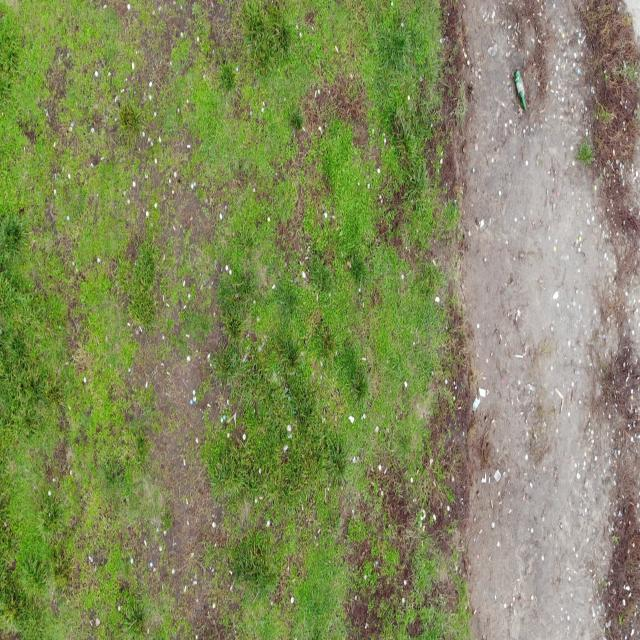rubbish: (514, 68, 527, 113)
